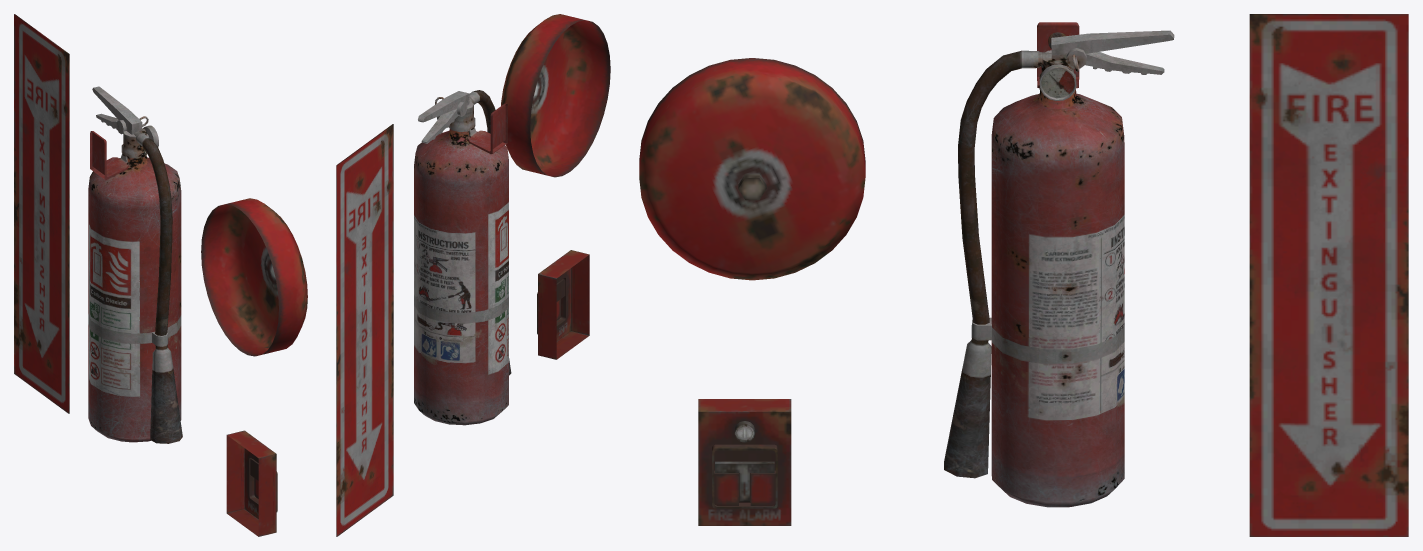
The model's file is ExitFirePack.fbx.
3 renders of one model, left to right at view 1: azimuth 30°, elevation 25°; view 2: azimuth 150°, elevation 25°; view 3: azimuth 270°, elevation 25°, orthographic. The views are drawn at different scales.
Parts seen in each view (by area): view 1: SM_Fire_Extinguisher.mo, SM_Fire_safety_Plane.mo, SM_Fire_safety_Bell.mo, SM_Fire_safety_Switch.mo; view 2: SM_Fire_Extinguisher.mo, SM_Fire_safety_Plane.mo, SM_Fire_safety_Bell.mo, SM_Fire_safety_Switch.mo; view 3: SM_Fire_safety_Plane.mo, SM_Fire_Extinguisher.mo, SM_Fire_safety_Bell.mo, SM_Fire_safety_Switch.mo.
Part boxes in pixels (x1,y1,x2,y2): SM_Fire_Extinguisher.mo: (88,86,182,443); SM_Fire_safety_Plane.mo: (14,14,69,413); SM_Fire_safety_Bell.mo: (201,198,307,356); SM_Fire_safety_Switch.mo: (226,430,277,536); SM_Fire_Extinguisher.mo: (414,90,511,425); SM_Fire_safety_Plane.mo: (336,124,393,536); SM_Fire_safety_Bell.mo: (501,14,610,177); SM_Fire_safety_Switch.mo: (537,250,589,359); SM_Fire_safety_Plane.mo: (1249,14,1408,536); SM_Fire_Extinguisher.mo: (944,22,1174,507); SM_Fire_safety_Bell.mo: (639,58,865,280); SM_Fire_safety_Switch.mo: (698,399,791,525).
Size of the model in its own units: 15.88 by 68.1 by 90.91.
